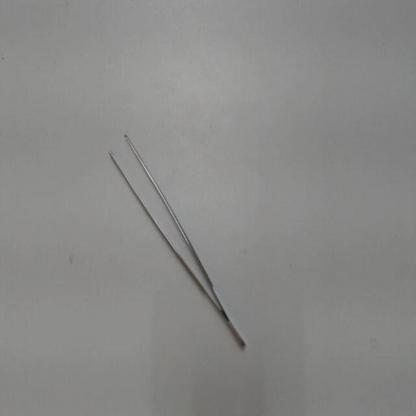Gillies Toothed Dissector: (104, 111, 250, 360)
